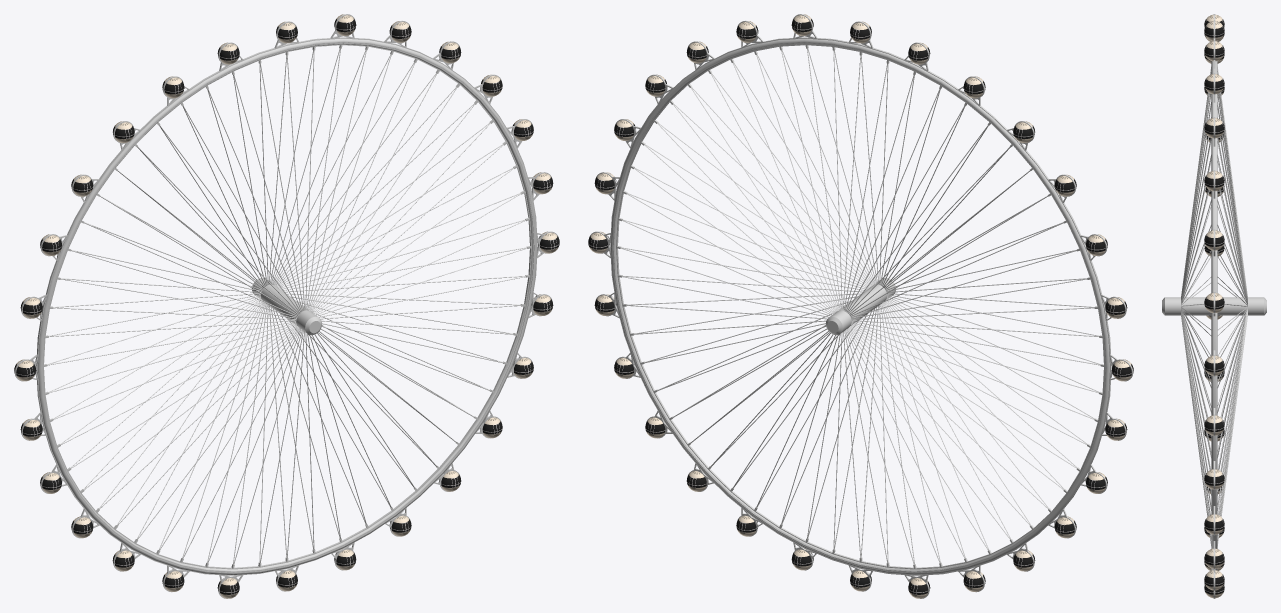
Rendered from bolas _com_aro_e_centro.obj.
3 views of the same model, side by side, from view 1: azimuth 30°, elevation 25°; view 2: azimuth 150°, elevation 25°; view 3: azimuth 270°, elevation 25° (orthographic). The views are drawn at different scales.
Parts seen in each view (by area): view 1: Nimbasa_City.001; view 2: Nimbasa_City.001; view 3: Nimbasa_City.001.
Boxes of the visible parts, bbox=[...] form: Nimbasa_City.001: bbox=[14, 14, 559, 598]; Nimbasa_City.001: bbox=[588, 14, 1133, 598]; Nimbasa_City.001: bbox=[1162, 14, 1266, 598].
Bounding box in the file's own units: 13.88 × 13.88 × 2.49.
